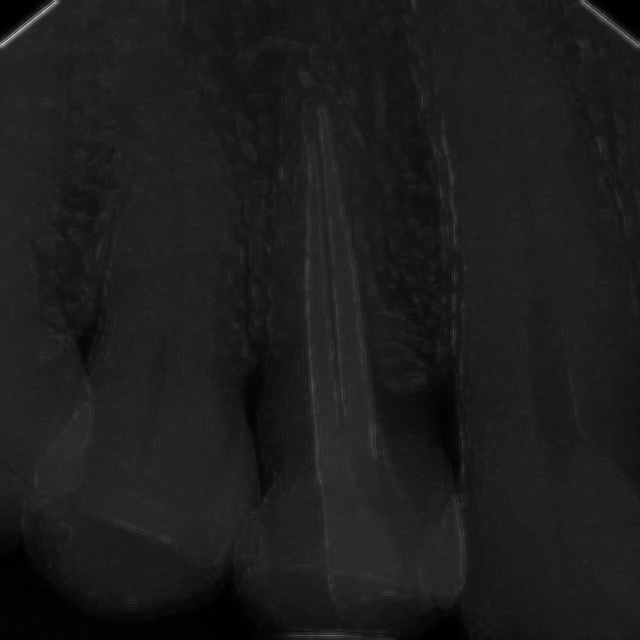Class 0- No endodontic treatment: (220, 59, 490, 625)
